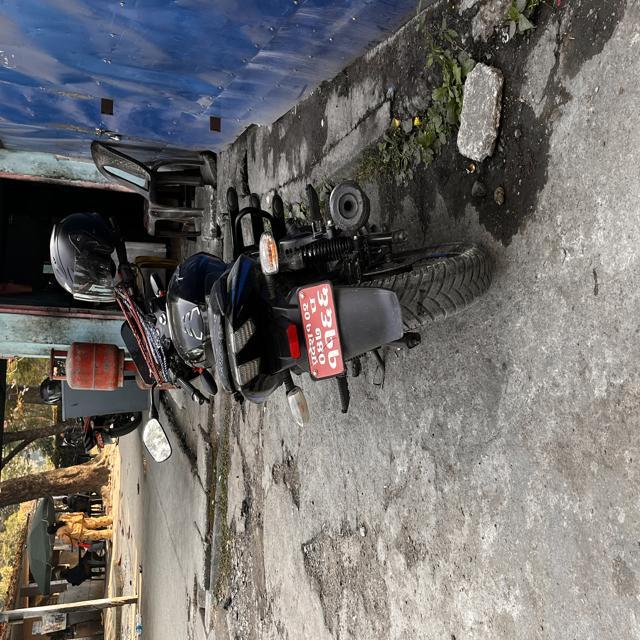license_plate: (290, 268, 352, 390)
